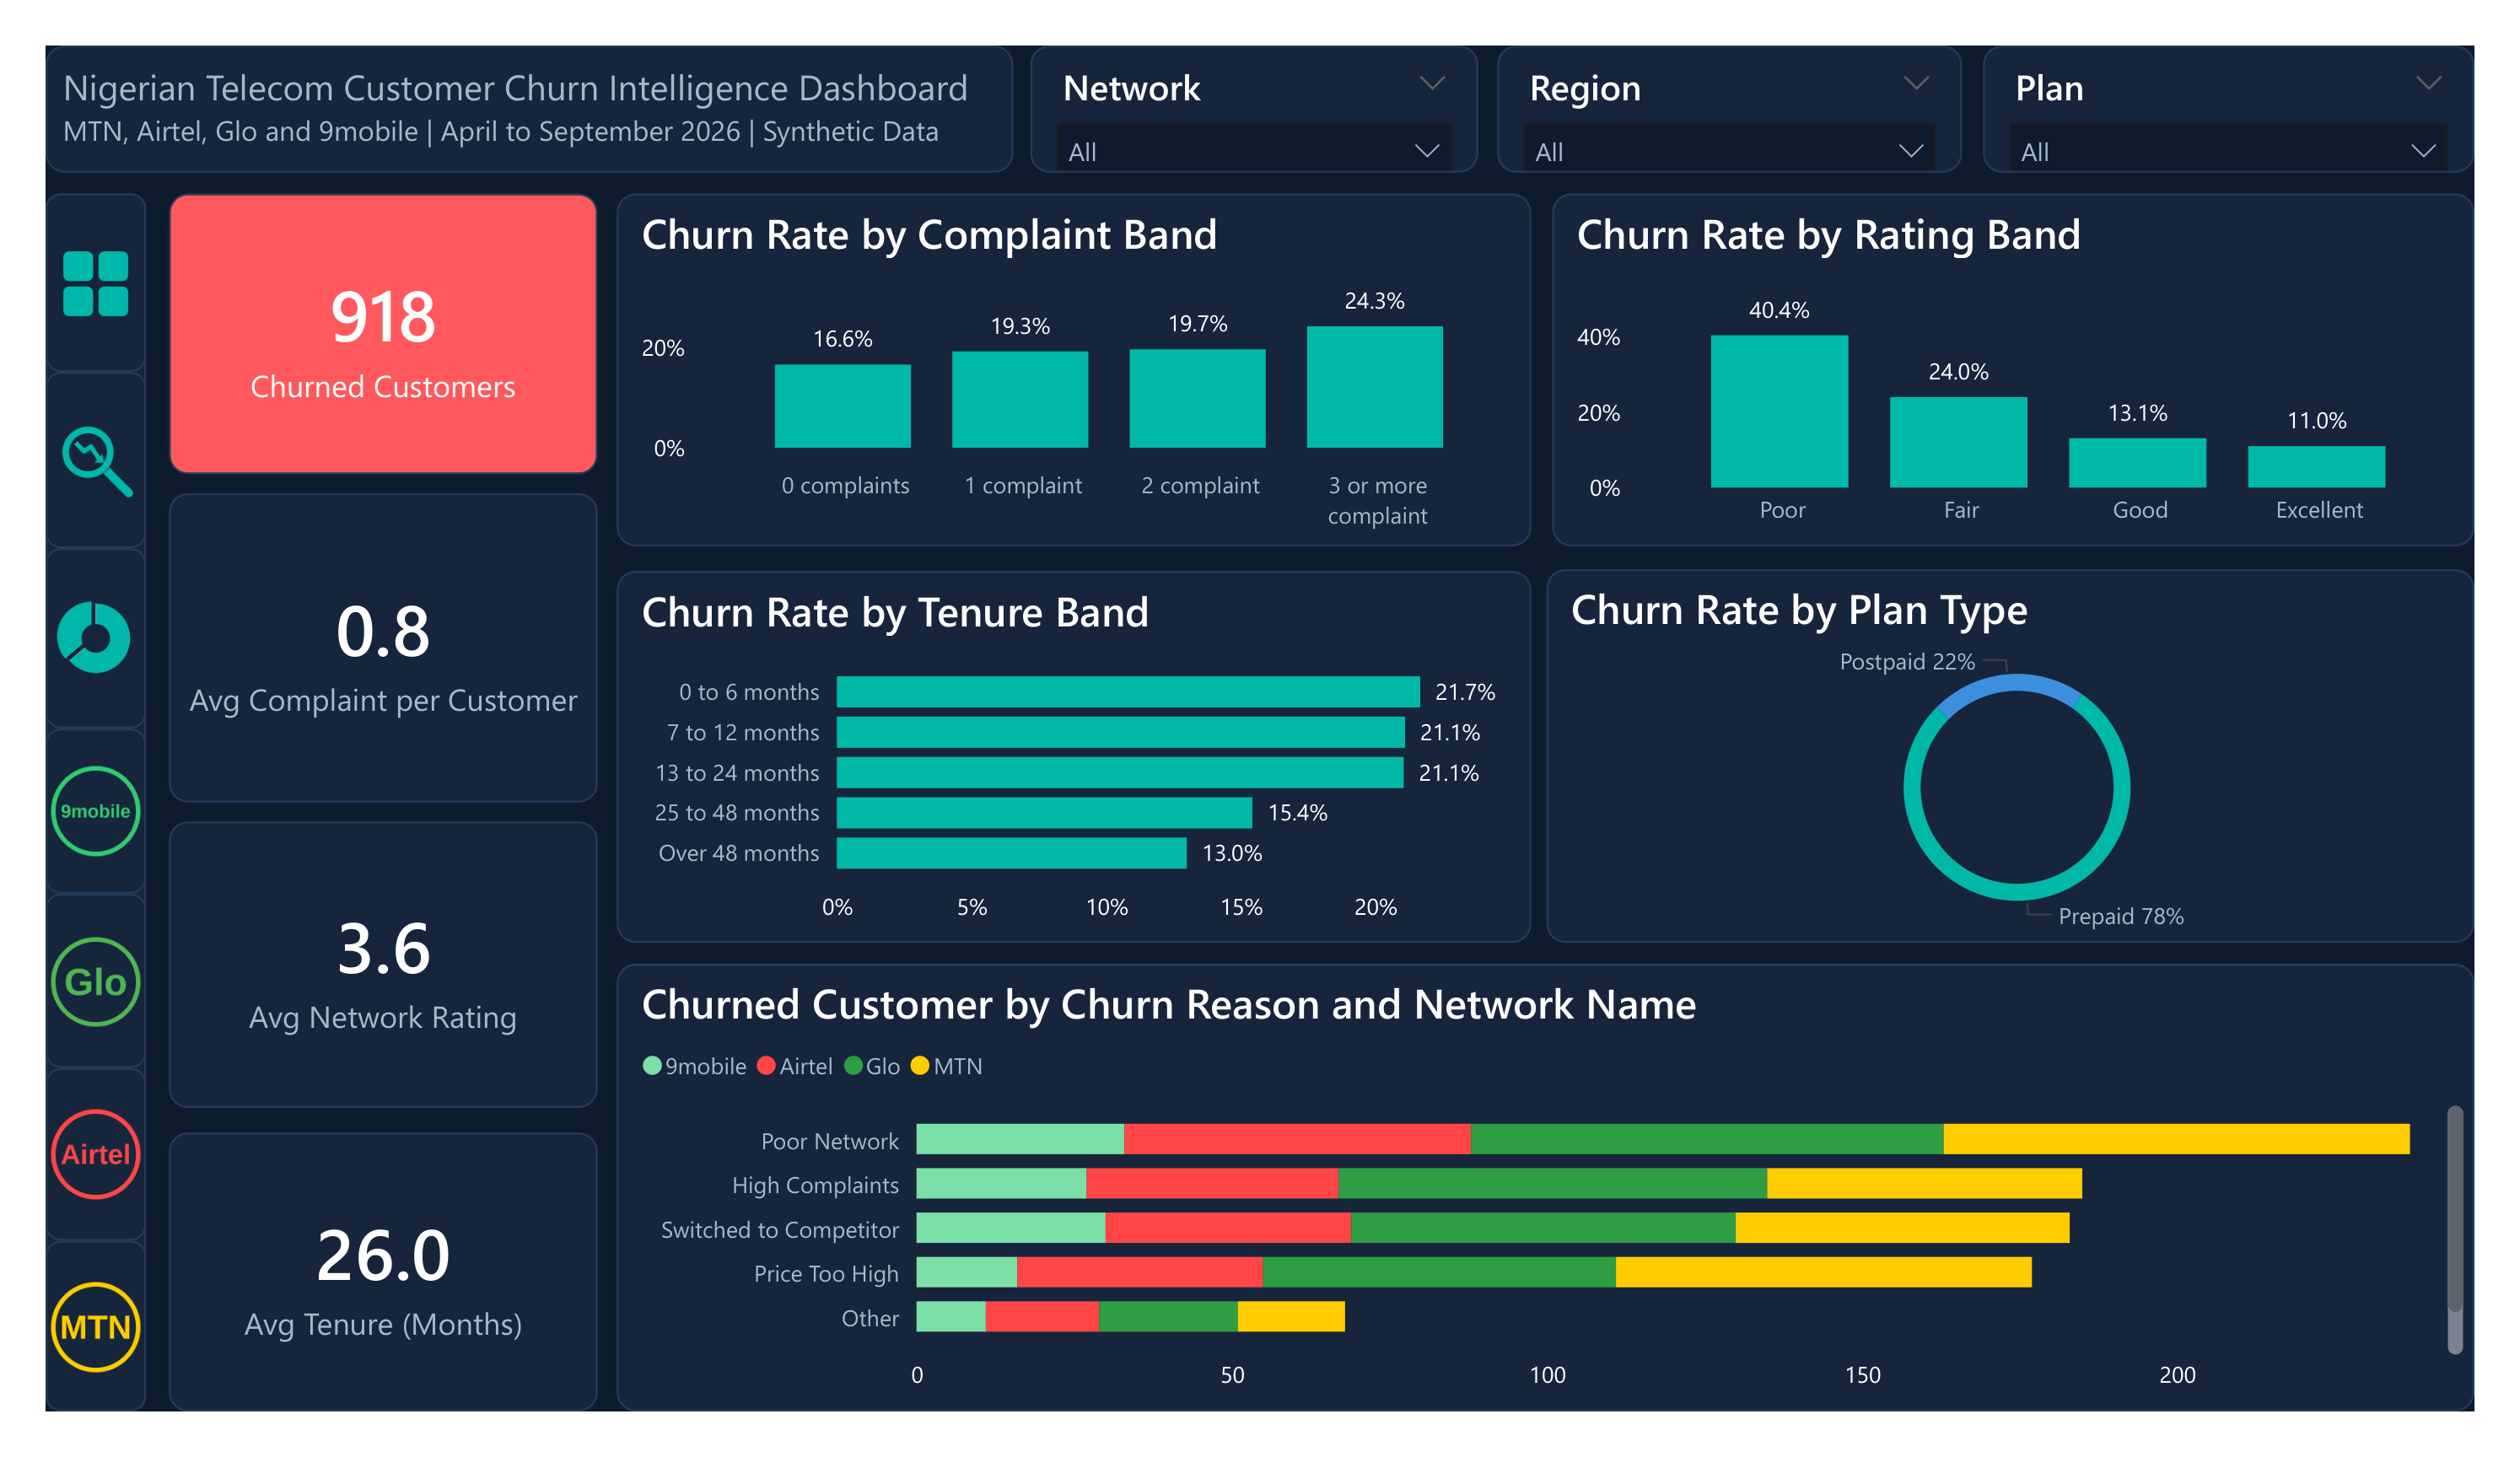

What the dashboard file says about the page in this screenshot:
{"tool":"powerbi","page":{"name":"Churn Driver","canvas":[1280,720],"ordinal":1},"visuals":[{"type":"textbox","box":[0,0,509.7,67.1],"z":0},{"type":"slicer","fields":{"Values":["Dim_Network.Network_Name"]},"box":[518.7,0,236.1,67.1],"z":1000},{"type":"slicer","fields":{"Values":["Dim_Region.Zone"]},"box":[765.2,0,245.2,67.1],"z":2000},{"type":"slicer","fields":{"Values":["Dim_Plan.Plan_Name"]},"box":[1020.6,0,259.4,67.1],"z":3000},{"type":"textbox","box":[0,78.1,53.5,641.9],"z":4000},{"type":"card","fields":{"Values":["_Measures.Churned Customer"]},"box":[65.1,78.1,225.5,147.5],"z":5000},{"type":"card","fields":{"Values":["_Measures.Avg Complaint per Customer"]},"box":[65.1,235.7,225.5,163.4],"z":6000},{"type":"card","fields":{"Values":["_Measures.Avg Network Rating"]},"box":[65.1,409.2,225.5,150.4],"z":7000},{"type":"card","fields":{"Values":["_Measures.Avg Tenure (Months)"]},"box":[65.1,572.5,225.5,147.5],"z":8000},{"type":"columnChart","fields":{"Y":["_Measures.Churn Rate"],"Category":["Dim_Customer.Complaint Band"]},"box":[301.4,78.5,481.7,185.8],"z":9000},{"type":"columnChart","fields":{"Y":["_Measures.Churn Rate"],"Category":["Dim_Customer.Rating Band"]},"box":[794.2,78.5,485.8,185.8],"z":10000},{"type":"clusteredBarChart","fields":{"Y":["_Measures.Churn Rate"],"Category":["Dim_Customer.Tenure Band"]},"box":[301.4,276.6,481.7,196.8],"z":11000},{"type":"donutChart","title":"Churn Rate by Plan Type","fields":{"Category":["Dim_Plan.Plan_Type"],"Y":["_Measures.Churned Customers"]},"box":[790.8,276.1,488.7,196.6],"z":12000},{"type":"barChart","title":"Churned Customer by Churn Reason and Network Name","fields":{"Category":["Dim_Customer.Churn_Reason"],"Series":["Dim_Network.Network_Name"],"Y":["_Measures.Churned Customer"]},"box":[301.4,484.5,978.6,235.4],"z":13000},{"type":"image","box":[0,78.1,53.5,94],"z":14000},{"type":"image","box":[0,172,53.5,92.5],"z":15000},{"type":"image","box":[0,264.6,53.5,95.4],"z":16000},{"type":"image","box":[0,360,53.5,86.7],"z":17000},{"type":"image","box":[0,446.7,53.5,92.5],"z":18000},{"type":"image","box":[0,539.3,53.5,91.1],"z":19000},{"type":"image","box":[0,630.4,53.5,89.6],"z":20000}]}

Visuals, with their boxes in screenshot pixels (x1, y1, x2, y2), scaled from the page's 1280x720 canvas onto the 2520x1457 screenshot:
textbox: (0,0,1004,136)
slicer - Dim_Network.Network_Name: (1021,0,1486,136)
slicer - Dim_Region.Zone: (1506,0,1990,136)
slicer - Dim_Plan.Plan_Name: (2009,0,2519,136)
textbox: (0,158,105,1456)
card - _Measures.Churned Customer: (128,158,572,456)
card - _Measures.Avg Complaint per Customer: (128,477,572,808)
card - _Measures.Avg Network Rating: (128,828,572,1132)
card - _Measures.Avg Tenure (Months): (128,1159,572,1456)
columnChart - _Measures.Churn Rate x Dim_Customer.Complaint Band: (594,159,1542,535)
columnChart - _Measures.Churn Rate x Dim_Customer.Rating Band: (1564,159,2519,535)
clusteredBarChart - _Measures.Churn Rate x Dim_Customer.Tenure Band: (594,560,1542,958)
"Churn Rate by Plan Type" donutChart: (1557,559,2519,956)
"Churned Customer by Churn Reason and Network Name" barChart: (594,981,2519,1456)
image: (0,158,105,348)
image: (0,348,105,535)
image: (0,535,105,728)
image: (0,728,105,904)
image: (0,904,105,1091)
image: (0,1091,105,1276)
image: (0,1276,105,1456)
